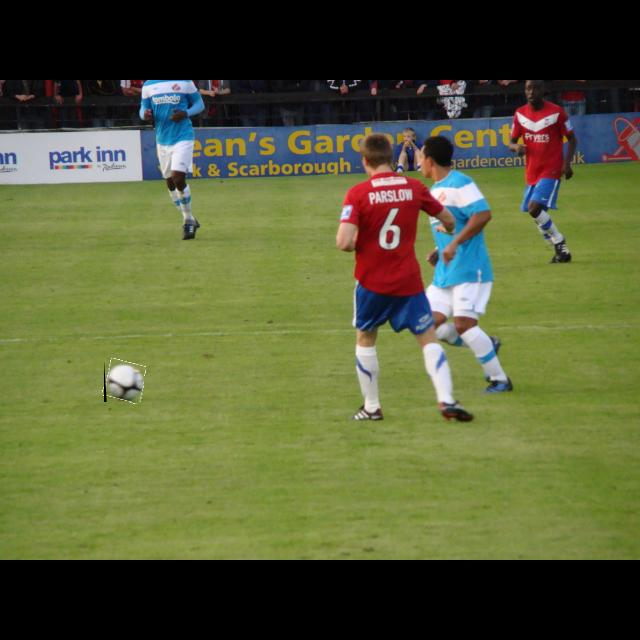Football: (104, 360, 144, 402)
